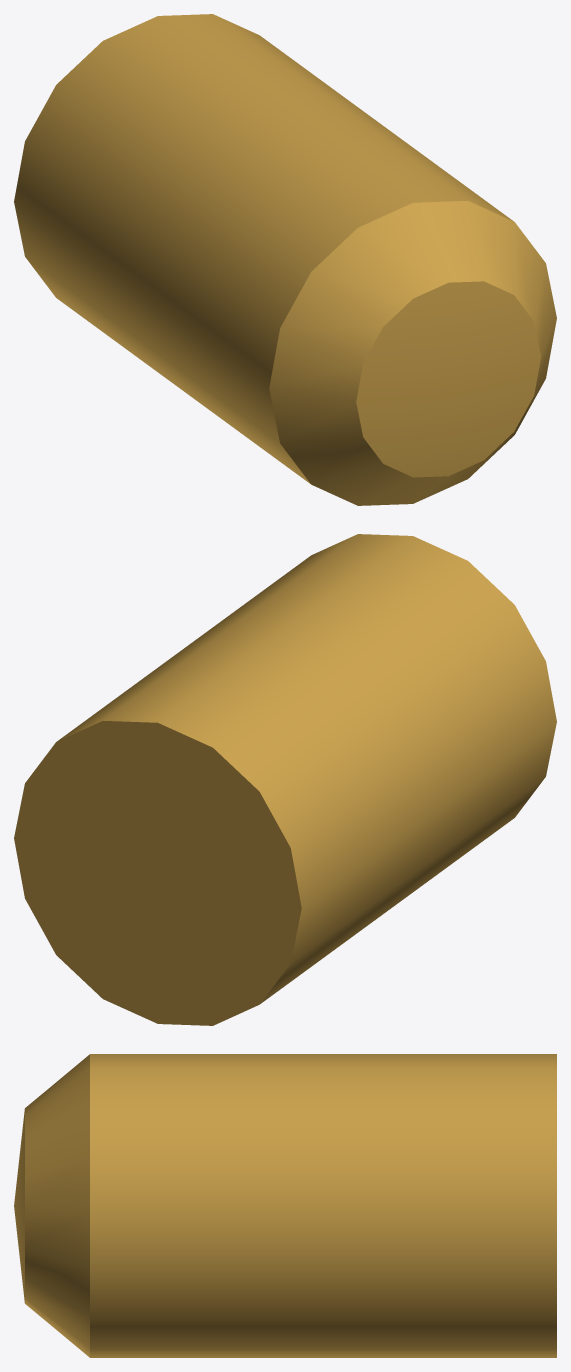
File: rueda-peg.glb
The picture shows the model from 3 angles, top to bottom: view 1: azimuth 30°, elevation 25°; view 2: azimuth 150°, elevation 25°; view 3: azimuth 270°, elevation 25°; orthographic projection. The views are drawn at different scales.
Parts seen in each view (by area): view 1: Peg; view 2: Peg; view 3: Peg.
Boxes of the visible parts, box(x1,y1,x2,y2) form: Peg: box(14, 14, 556, 505); Peg: box(14, 534, 556, 1025); Peg: box(14, 1054, 556, 1357).
Size of the model in its own units: 0.028 by 0.028 by 0.05.
